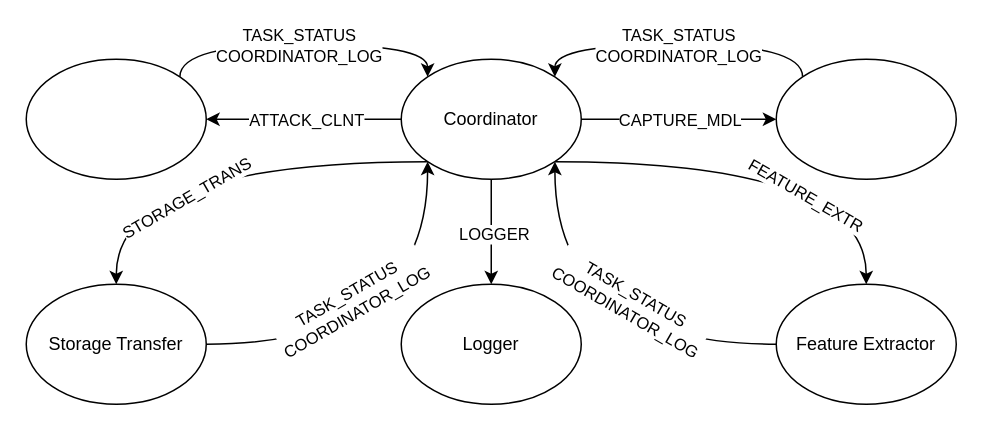
The diagram is 983 pixels wide and 431 high, and some of its shapes have lost their labels. Each missing label, with the centre of its shape:
"Attack Client" belongs at [115,118].
"Traffic Capture" belongs at [865,118].
